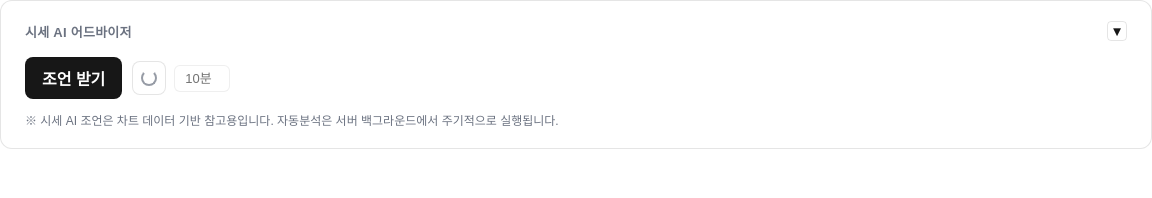
it: MarketAiAdvisor › surfaces an error when saving the auto-analyze selection fails
Click the button named "자동 재실행 활성화".
click(149, 78)  # box [132,61,166,95]
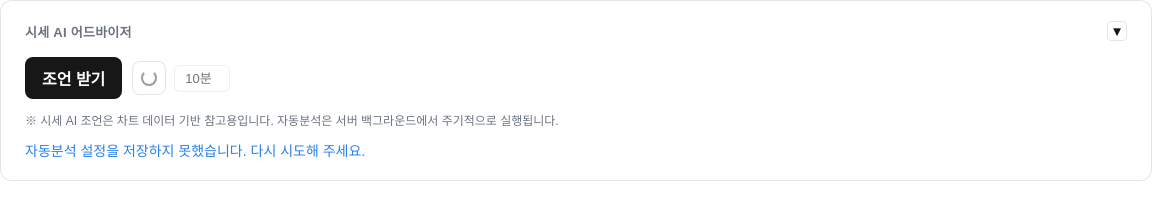
Expected: the text "자동분석 설정을 저장하지 못했습니다. 다시 시도해 주세요." is shown, [25,143,365,159]
